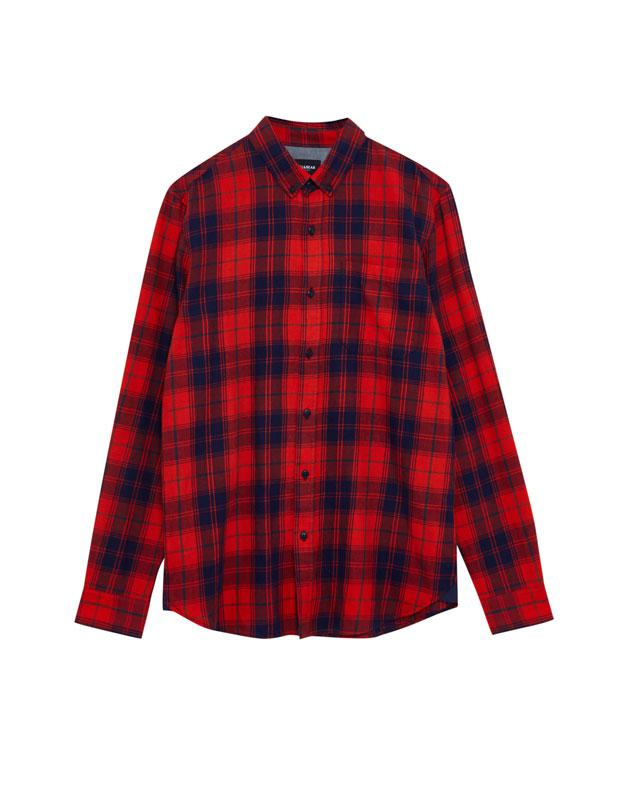teeshirt: (74, 91, 563, 668)
